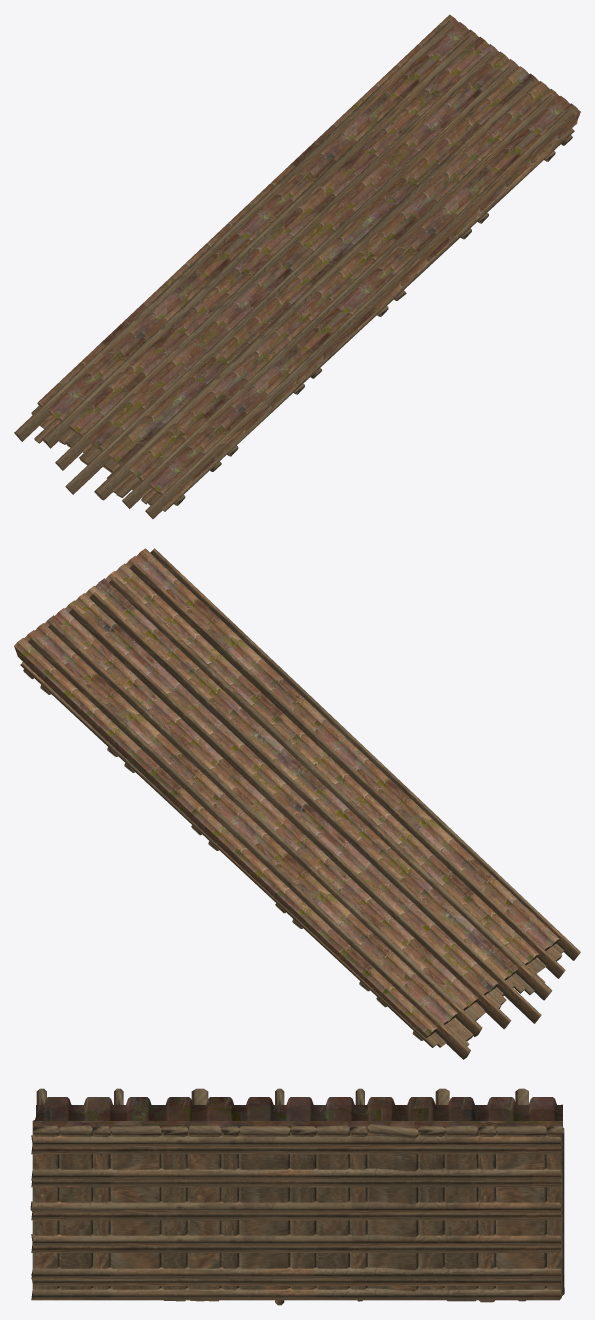
Rendered from SM_roof_01_base_02.fbx.
3 views of the same model, one above another, from view 1: azimuth 30°, elevation 25°; view 2: azimuth 150°, elevation 25°; view 3: azimuth 270°, elevation 25° (orthographic). The views are drawn at different scales.
Visible parts, largest first — view 1: SM_roof_01_base_02_LOD0; view 2: SM_roof_01_base_02_LOD0; view 3: SM_roof_01_base_02_LOD0.
Part boxes in pixels (x1,y1,x2,y2): SM_roof_01_base_02_LOD0: (14, 14, 580, 518); SM_roof_01_base_02_LOD0: (14, 548, 580, 1059); SM_roof_01_base_02_LOD0: (30, 1088, 564, 1305).
Size of the model in its own units: 795 by 405 by 540.
2 materials, 2 textured.
